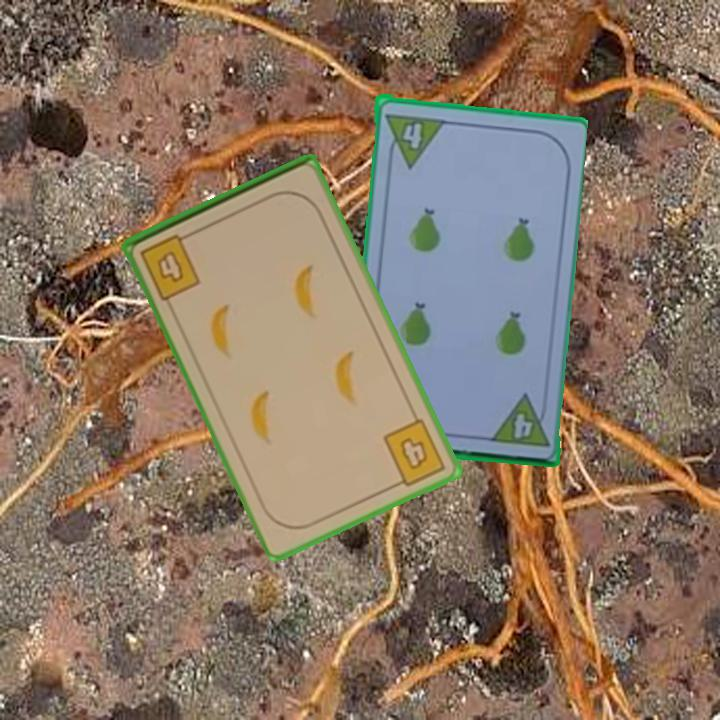4b: (379, 415, 449, 491), (137, 228, 204, 303)
4p: (486, 390, 552, 450), (381, 109, 446, 169)
